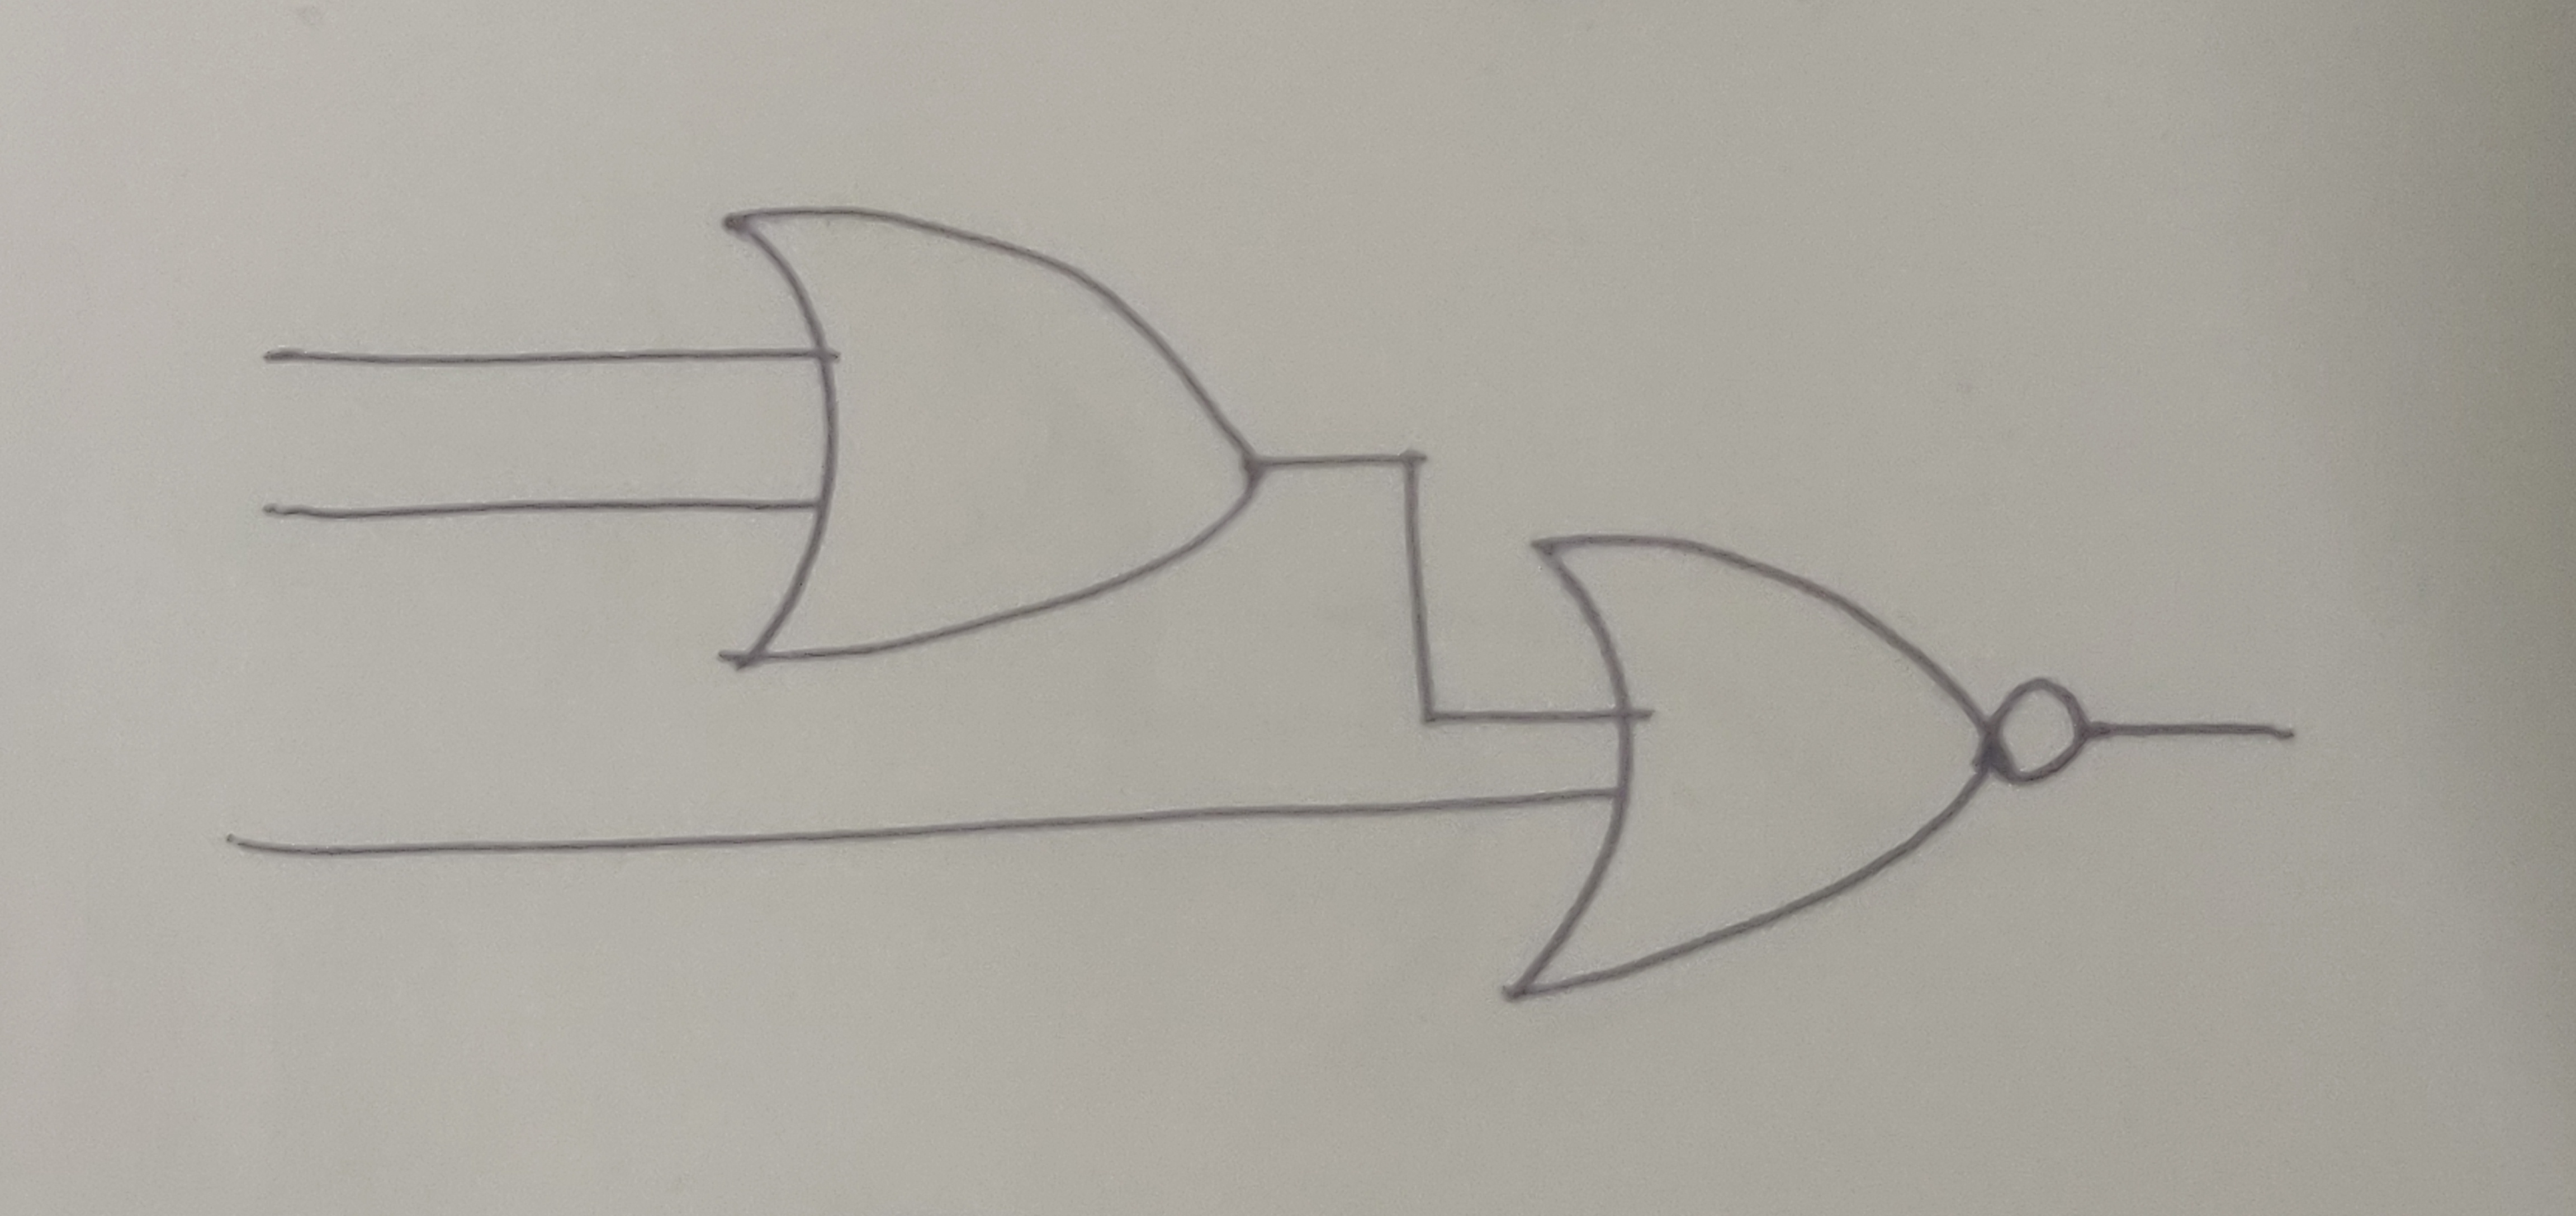not: (1988, 674, 2096, 789)
or: (713, 200, 1265, 677), (1495, 526, 1991, 1006)
